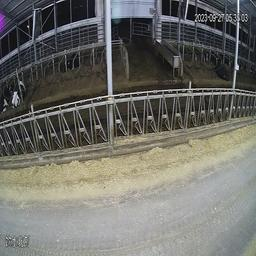cow: (209, 48, 230, 83), (11, 72, 25, 110), (60, 50, 79, 74), (2, 79, 11, 115)
